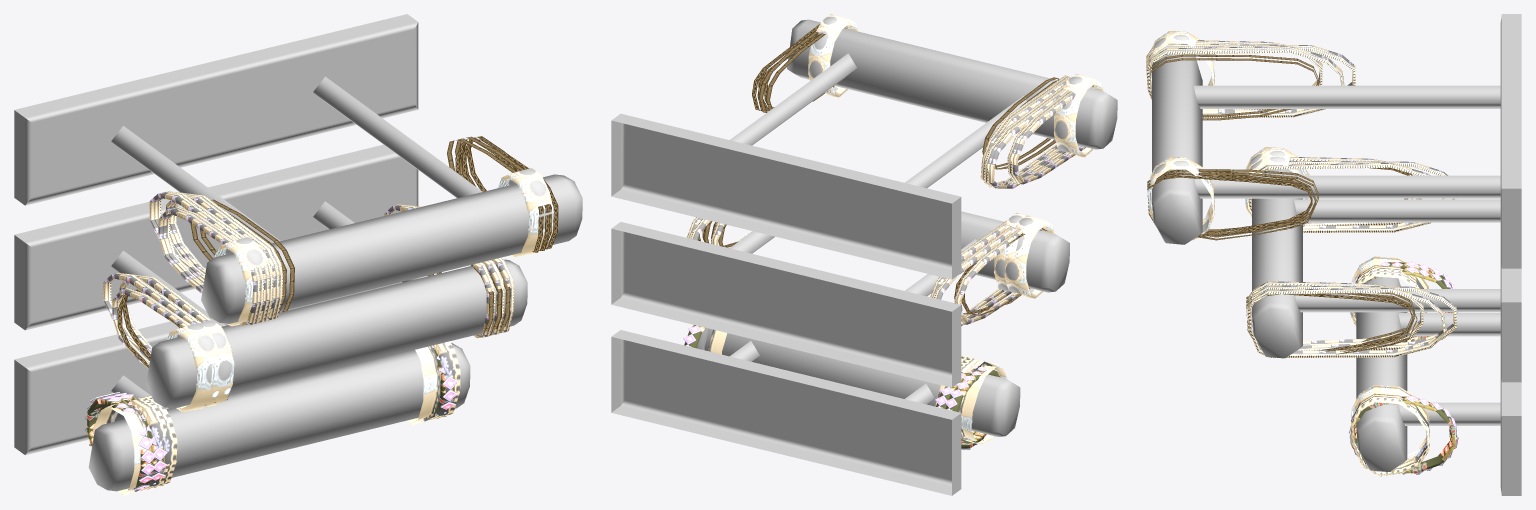
The model's file is jewelry_multi_bag_hanger.glb.
3 views of the same model, side by side, from view 1: azimuth 30°, elevation 25°; view 2: azimuth 150°, elevation 25°; view 3: azimuth 270°, elevation 25° (orthographic). The views are drawn at different scales.
Parts seen in each view (by area): view 1: g_contour, g_item_3, g_item_1, g_item_4, g_item_2; view 2: g_contour, g_item_1, g_item_3, g_item_4, g_item_2; view 3: g_contour, g_item_1, g_item_2, g_item_3, g_item_4.
Boxes of the visible parts, bbox=[...] form: g_contour: bbox=[14, 14, 582, 491]; g_item_3: bbox=[85, 136, 558, 490]; g_item_1: bbox=[94, 168, 554, 495]; g_item_4: bbox=[99, 137, 551, 486]; g_item_2: bbox=[117, 136, 524, 487]; g_contour: bbox=[611, 19, 1117, 495]; g_item_1: bbox=[683, 14, 1059, 444]; g_item_3: bbox=[697, 24, 1096, 450]; g_item_4: bbox=[696, 26, 1093, 443]; g_item_2: bbox=[686, 27, 1103, 406]; g_contour: bbox=[1152, 14, 1521, 495]; g_item_1: bbox=[1147, 54, 1458, 474]; g_item_2: bbox=[1150, 31, 1456, 357]; g_item_3: bbox=[1146, 40, 1455, 476]; g_item_4: bbox=[1146, 42, 1458, 460].
Size of what is drawn, in the model's own units: 0.2788 by 0.2286 by 0.2531.
